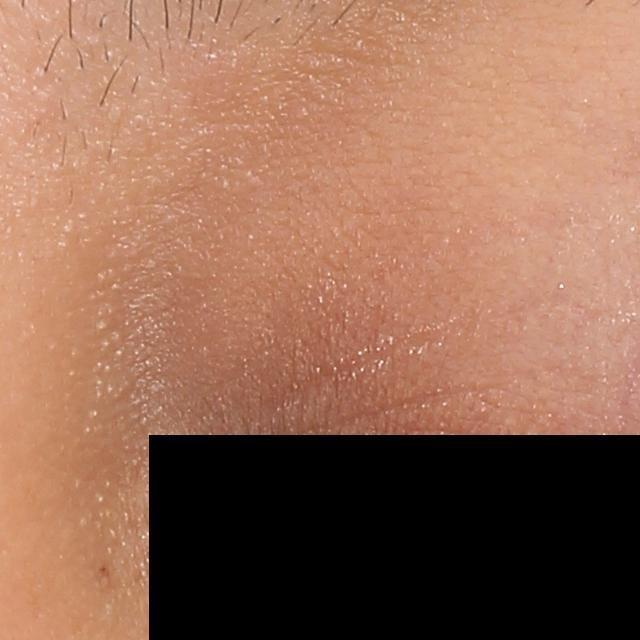nevus: (96, 561, 112, 577)
